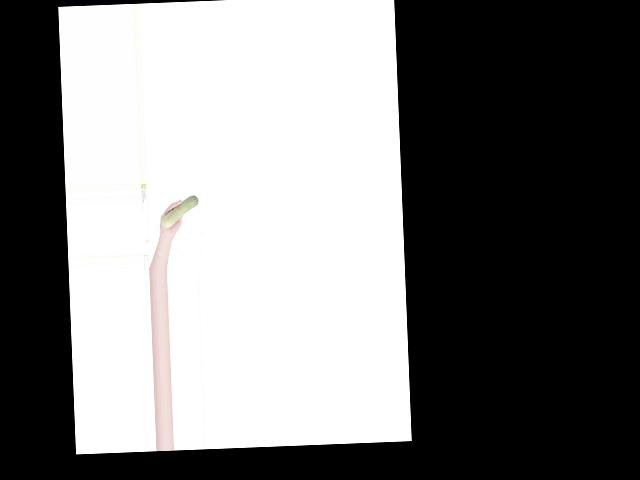cucumber: (160, 196, 198, 228)
